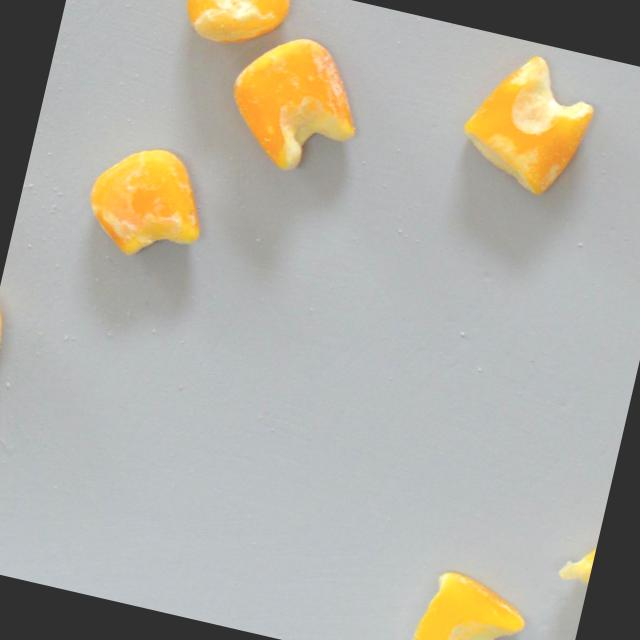dañado: (210, 20, 379, 185), (446, 39, 609, 207), (68, 131, 219, 273), (402, 560, 536, 640), (173, 0, 295, 58), (543, 521, 600, 629)
pelicula: (0, 288, 16, 359)
